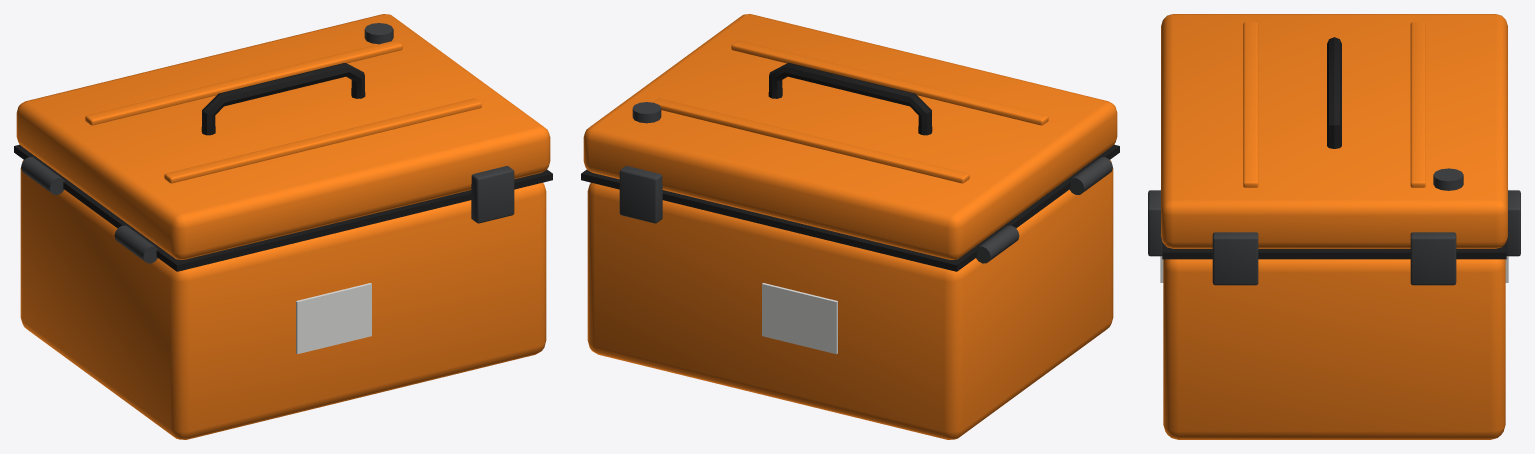
Rendered from payload_box.glb.
3 renders of one model, left to right at view 1: azimuth 30°, elevation 25°; view 2: azimuth 150°, elevation 25°; view 3: azimuth 270°, elevation 25°, orthographic. The views are drawn at different scales.
Visible parts, largest first — view 1: payload_box; view 2: payload_box; view 3: payload_box.
Boxes of the visible parts, <box> form: payload_box: <box>14,14,552,439</box>; payload_box: <box>581,14,1119,439</box>; payload_box: <box>1148,14,1520,439</box>.
Bounding box in the file's own units: 0.643 × 0.405 × 0.49.
